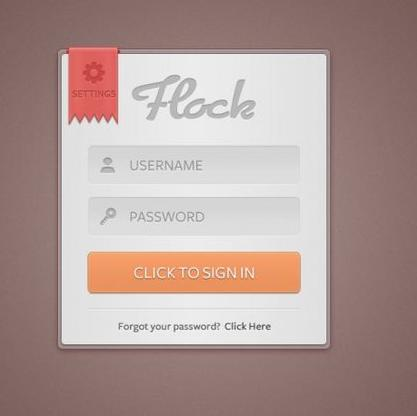button: (87, 251, 301, 294)
field: (89, 196, 301, 235), (88, 145, 299, 184)
